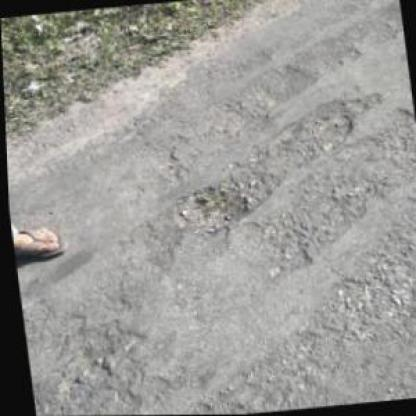pothole: (169, 179, 262, 240)
